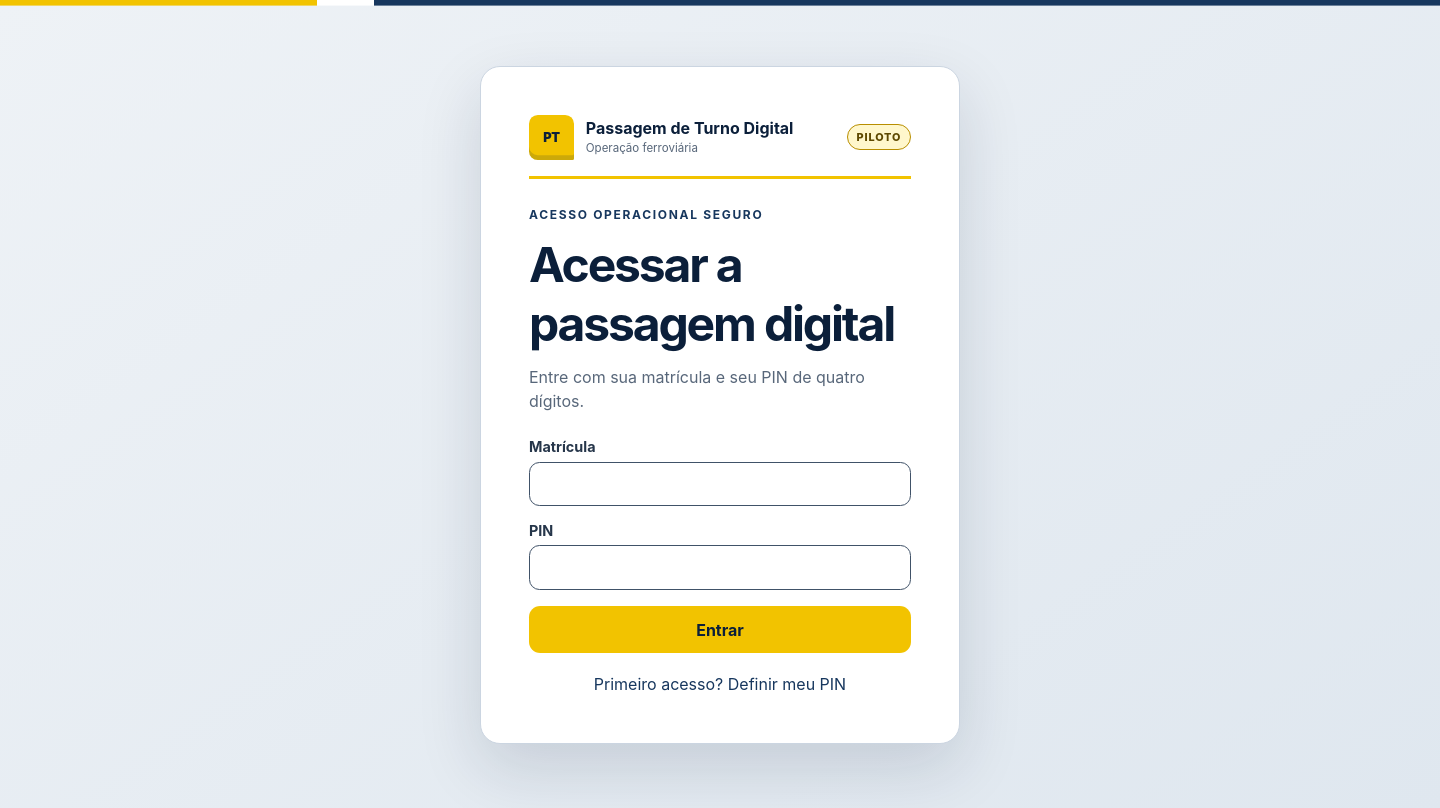
Scenario: autenticação React › valida a confirmação antes do primeiro acesso
Click the button "Primeiro acesso? Definir meu PIN" at (720, 684), box left=529, top=673, right=911, bottom=695
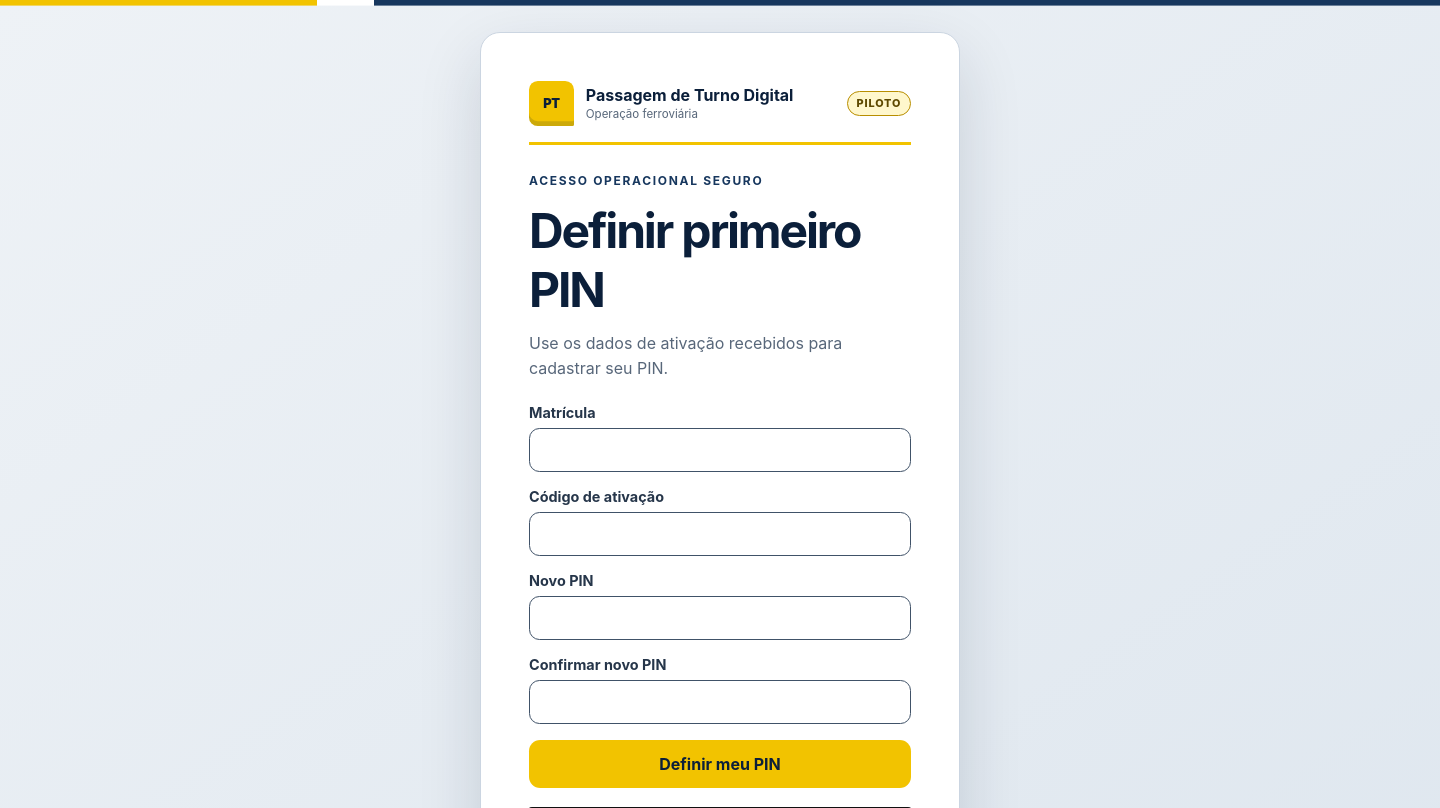
Type "30032552" into the field labelled "Matrícula" at (720, 450), box left=529, top=428, right=911, bottom=472
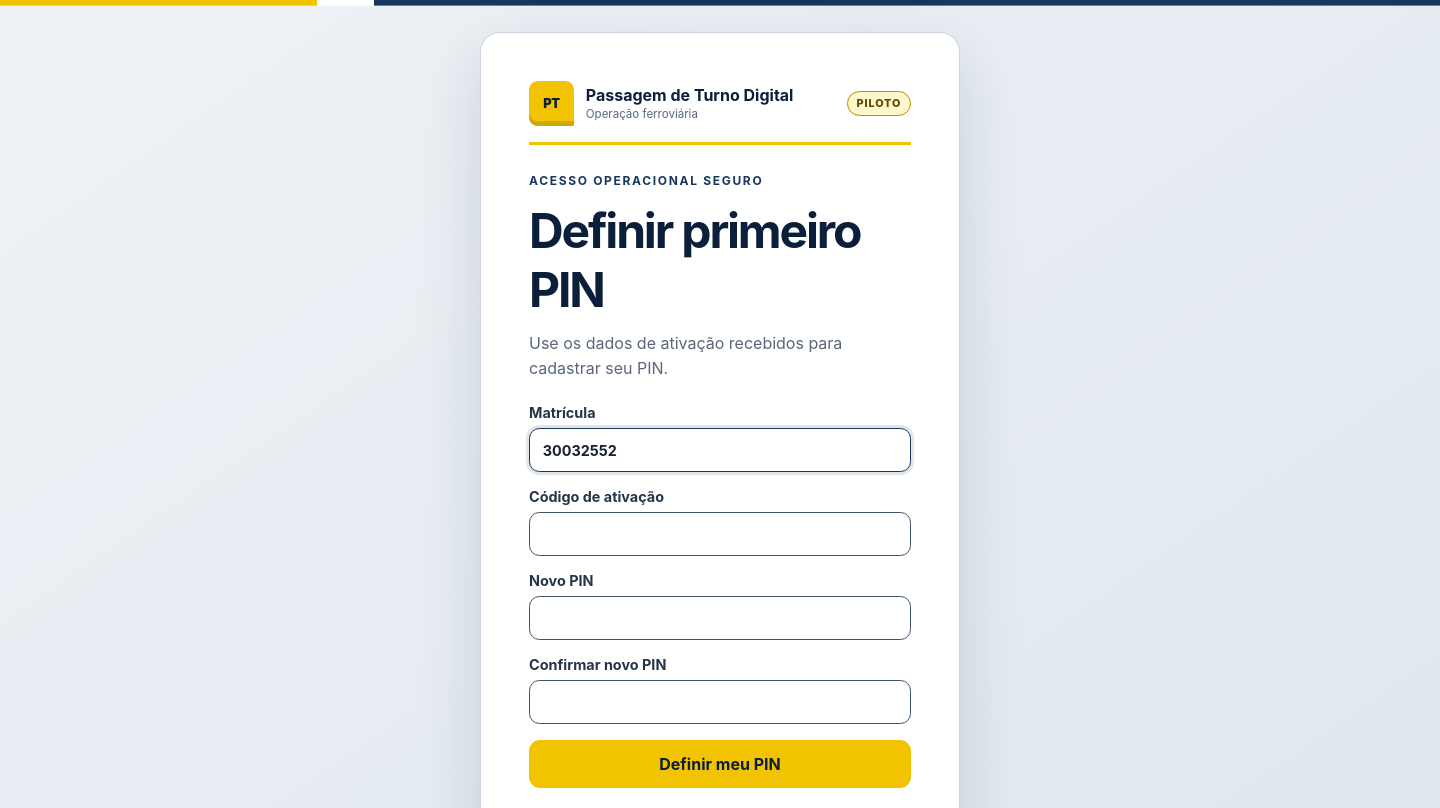
Type "123456" into the password field labelled "Código de ativação" at (720, 534), box left=529, top=512, right=911, bottom=556
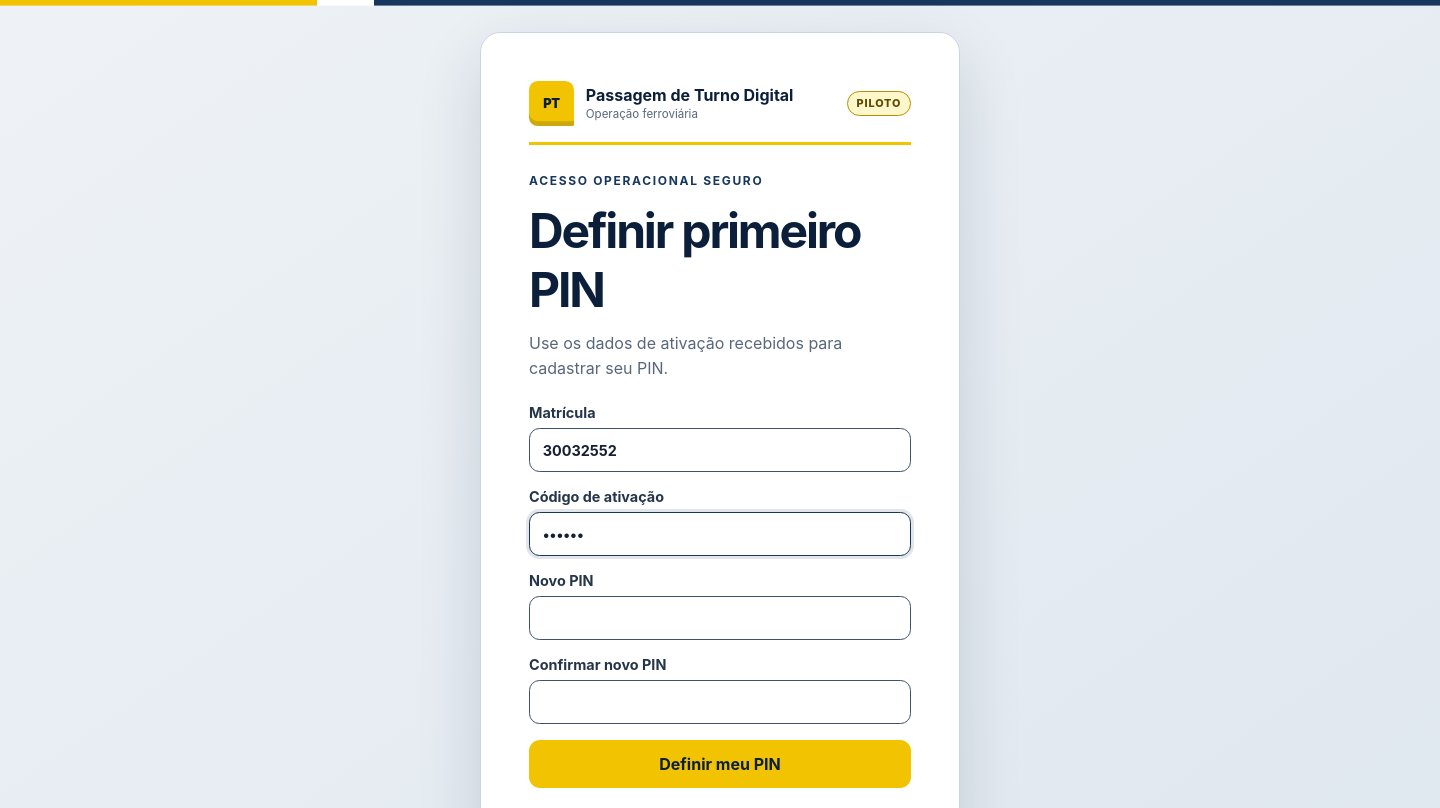
Type "4321" into the password field labelled "Novo PIN" at (720, 618), box left=529, top=596, right=911, bottom=640
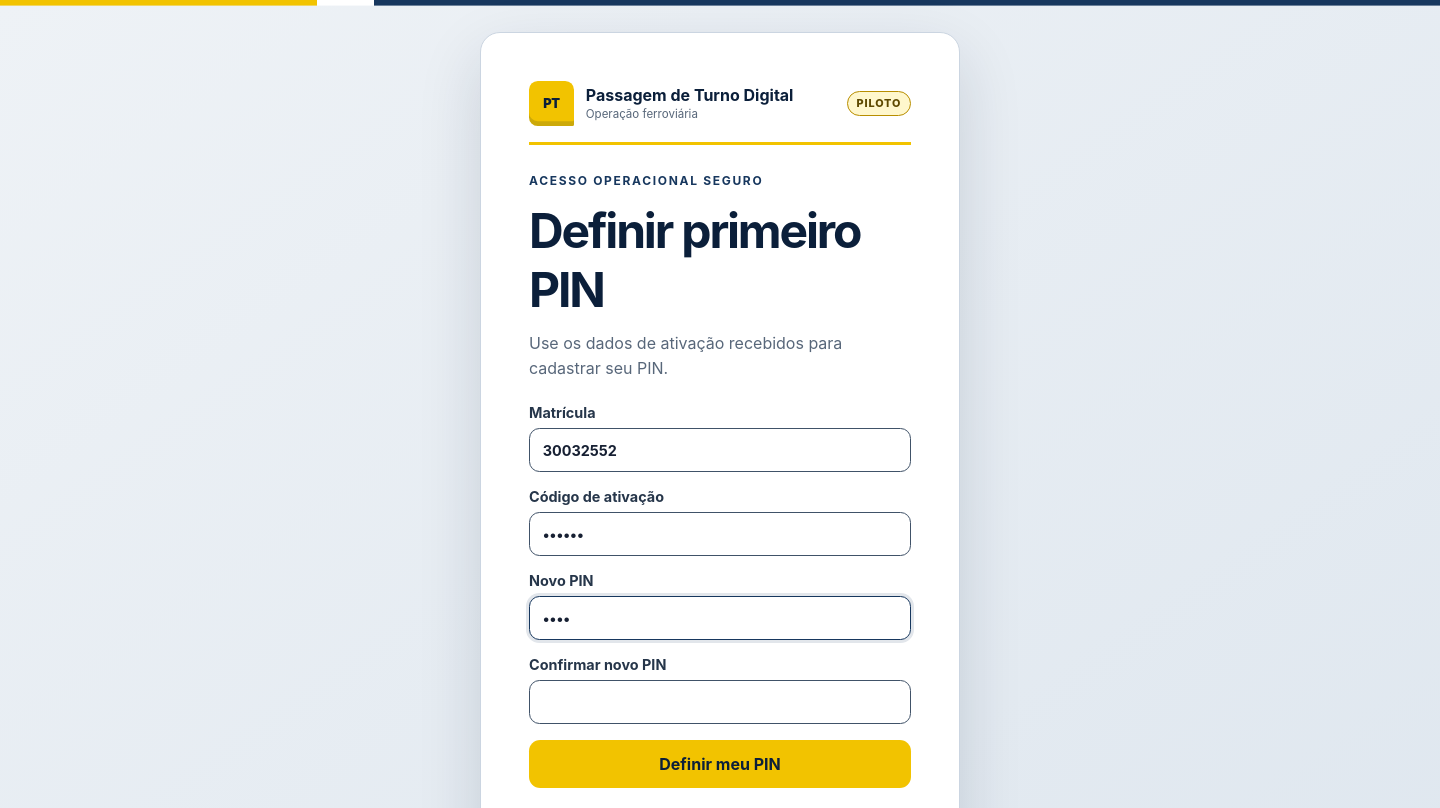
Type "1234" into the password field labelled "Confirmar novo PIN" at (720, 702), box left=529, top=680, right=911, bottom=724
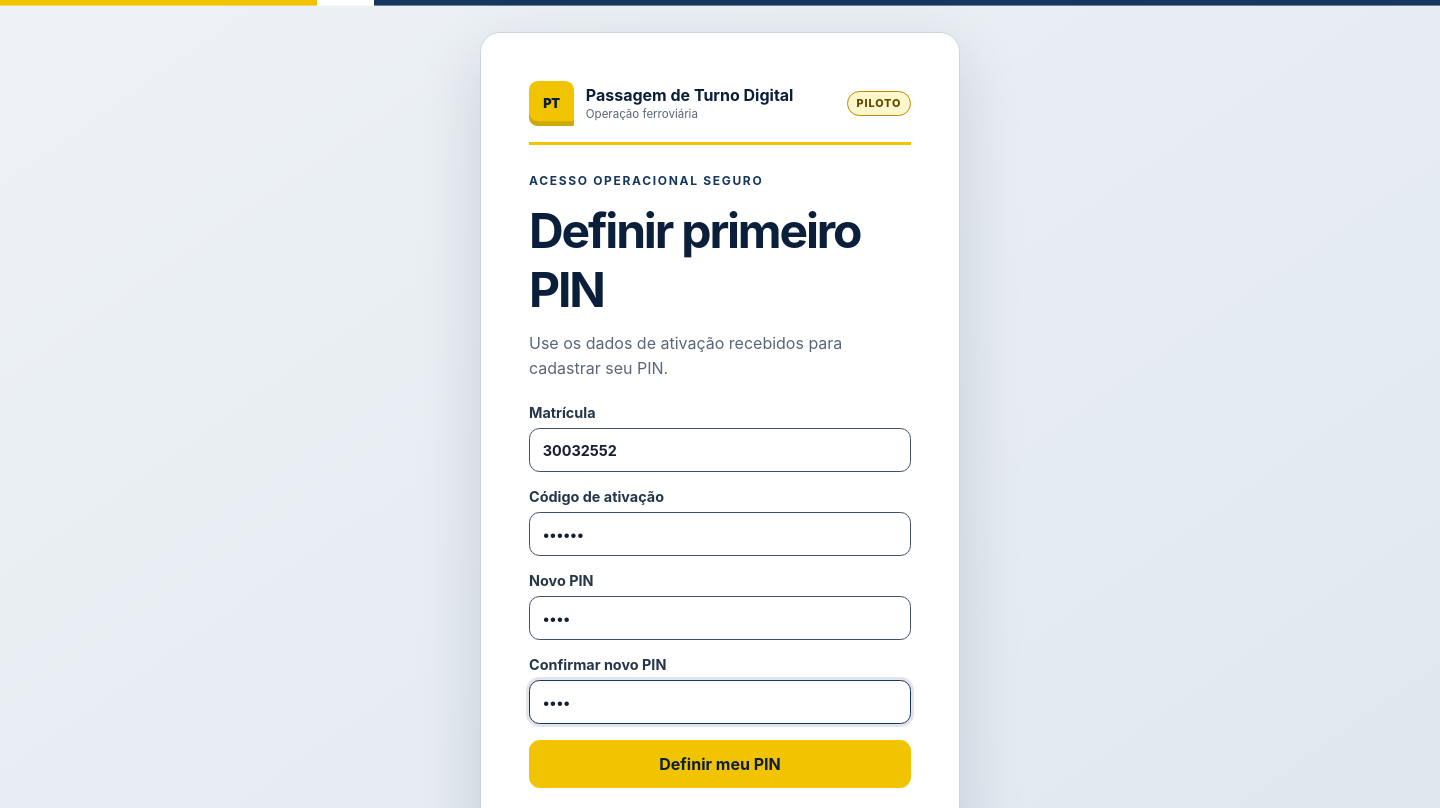
Click the button "Definir meu PIN" at (720, 764), box left=529, top=740, right=911, bottom=788
(page scrolled)
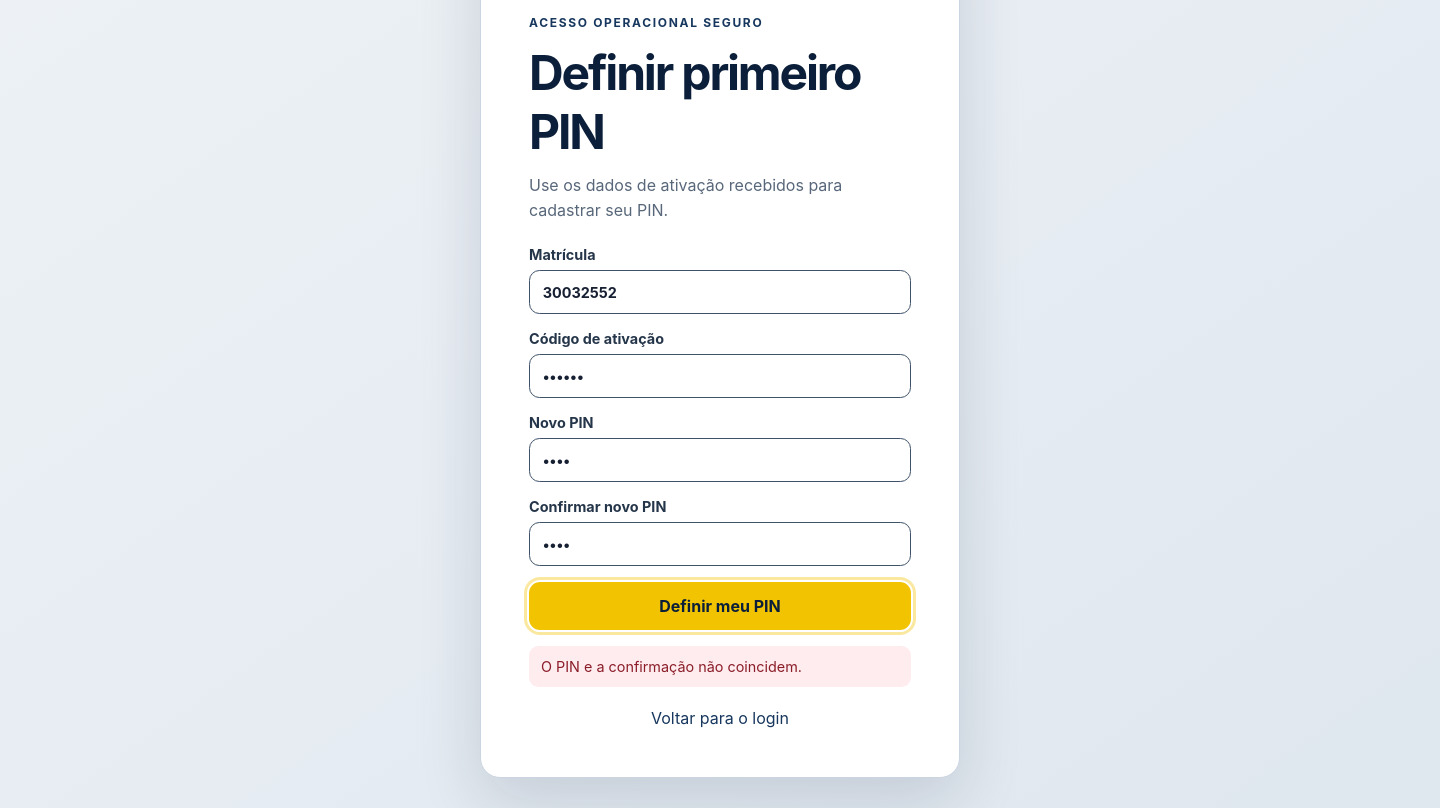
expect the message reads "O PIN e a confirmação não coincidem.": met, box left=541, top=658, right=802, bottom=674
